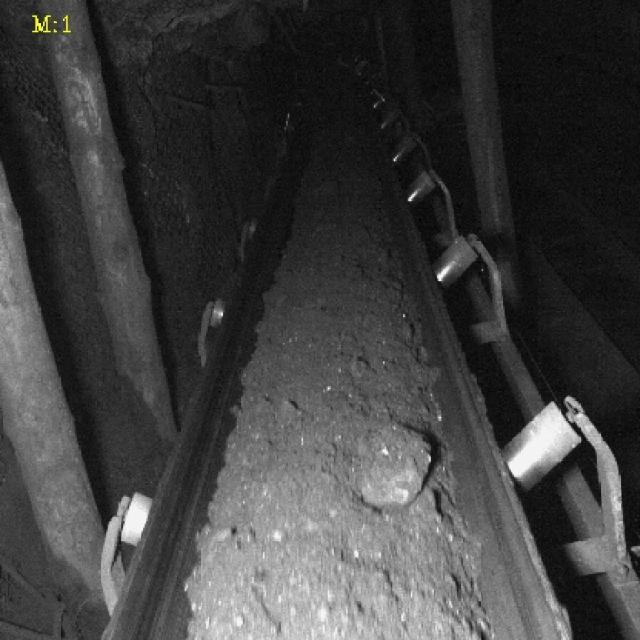large_sized_coal: (366, 431, 432, 506)
